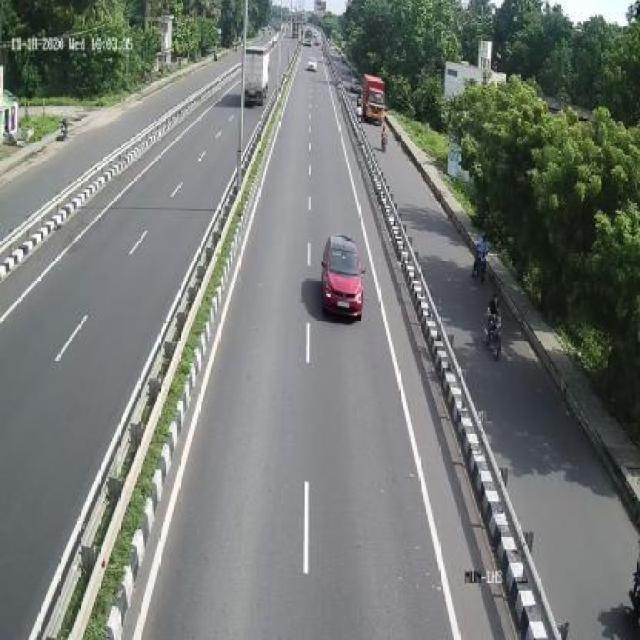car: (320, 228, 368, 323)
